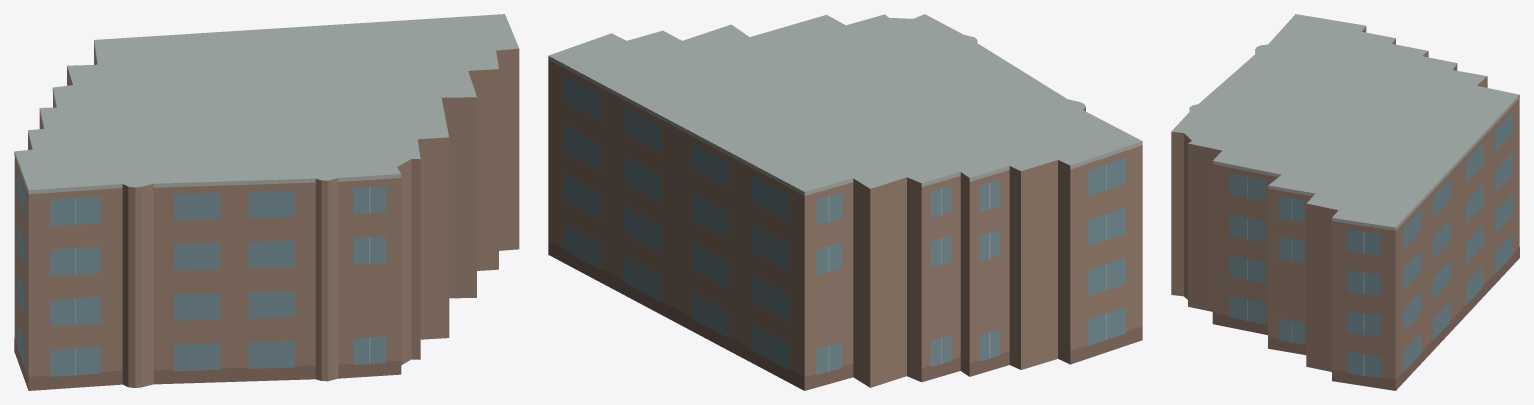
Rendered from survey-upis-32821945.glb.
3 renders of one model, left to right at view 1: azimuth 30°, elevation 25°; view 2: azimuth 150°, elevation 25°; view 3: azimuth 270°, elevation 25°, orthographic. The views are drawn at different scales.
Parts seen in each view (by area): view 1: survey-upis-32821945.tmp; view 2: survey-upis-32821945.tmp; view 3: survey-upis-32821945.tmp.
Boxes of the visible parts, x1,y1,x2,y2 form: survey-upis-32821945.tmp: [14, 14, 519, 390]; survey-upis-32821945.tmp: [548, 14, 1142, 390]; survey-upis-32821945.tmp: [1171, 14, 1519, 390].
Size of the model in its own units: 34.24 by 12.2 by 23.62.
